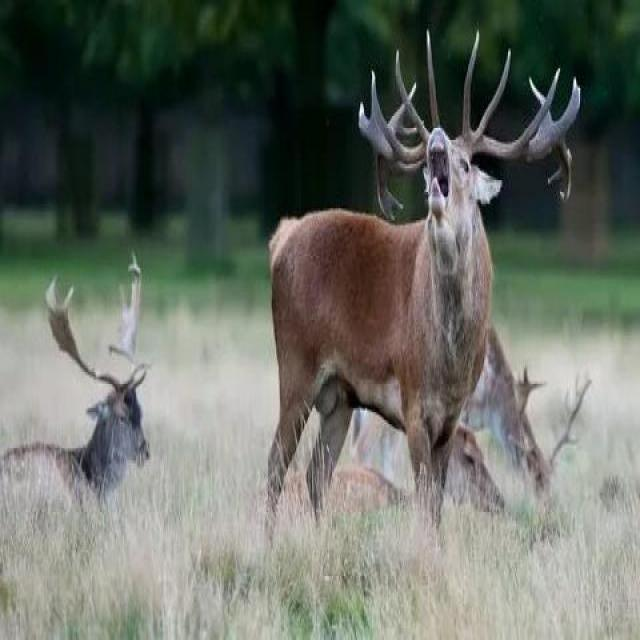deer: (233, 70, 540, 535), (26, 306, 170, 537)
